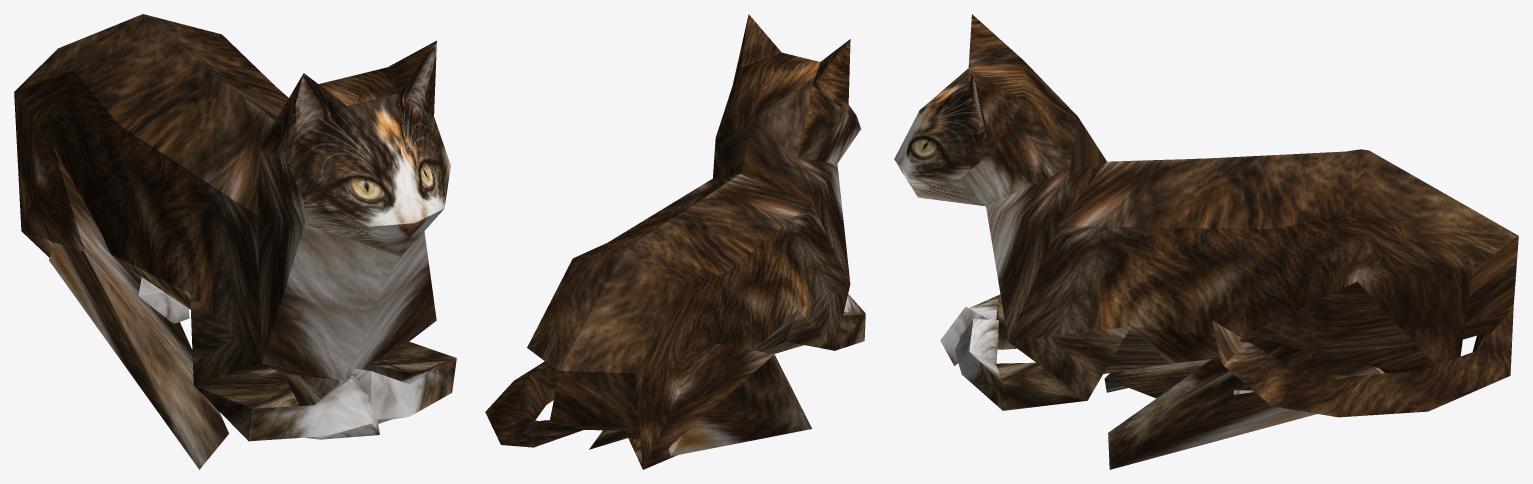
The model's file is mm9_deco_catstanddown.glb.
3 views of the same model, side by side, from view 1: azimuth 30°, elevation 25°; view 2: azimuth 150°, elevation 25°; view 3: azimuth 270°, elevation 25° (orthographic). The views are drawn at different scales.
Visible parts, largest first — view 1: Catstanddown; view 2: Catstanddown; view 3: Catstanddown.
Part boxes in pixels (x1,y1,x2,y2): Catstanddown: [14, 14, 456, 469]; Catstanddown: [485, 14, 865, 469]; Catstanddown: [894, 14, 1518, 469].
Size of the model in its own units: 0.1776 by 0.2646 by 0.3794.
Materials: 1 (1 with a texture image).
